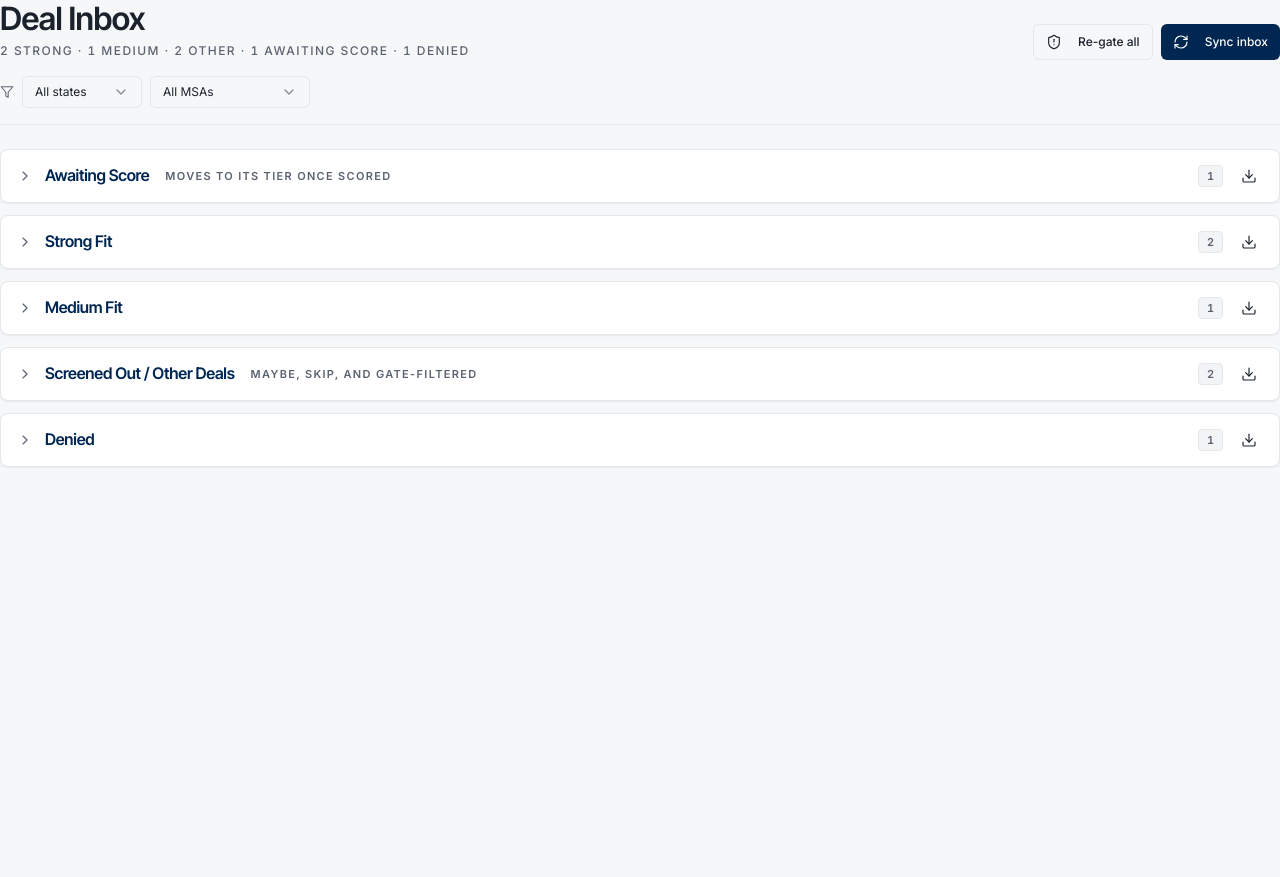
Deal Inbox › groups deals by tier, newest first, and leaves accepted deals out
Expected: the 1st text "2" is shown, [1198,230,1223,253]
Click the heading "Strong Fit": (79, 242) [45,229,112,254]
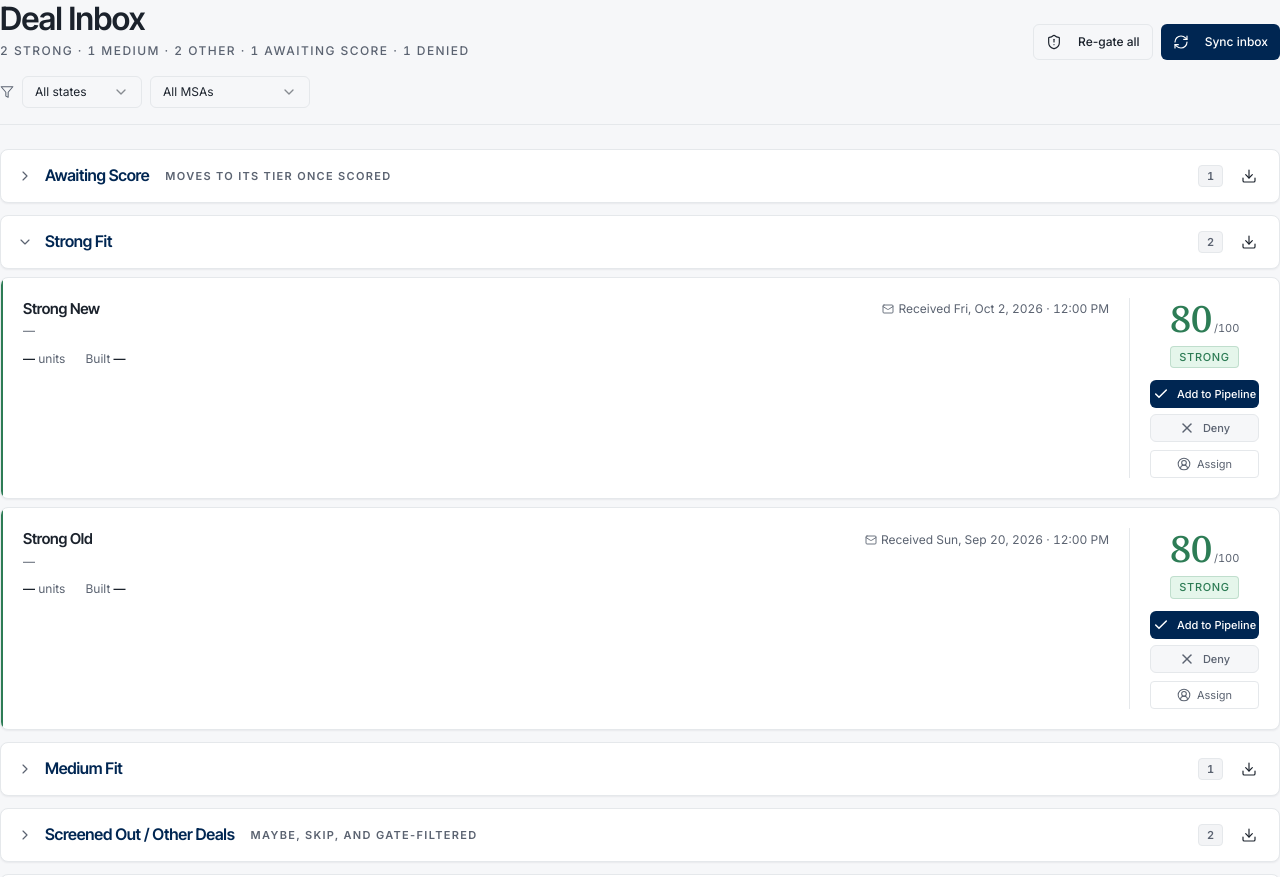
Click the heading "Medium Fit": (84, 769) [45,756,122,781]
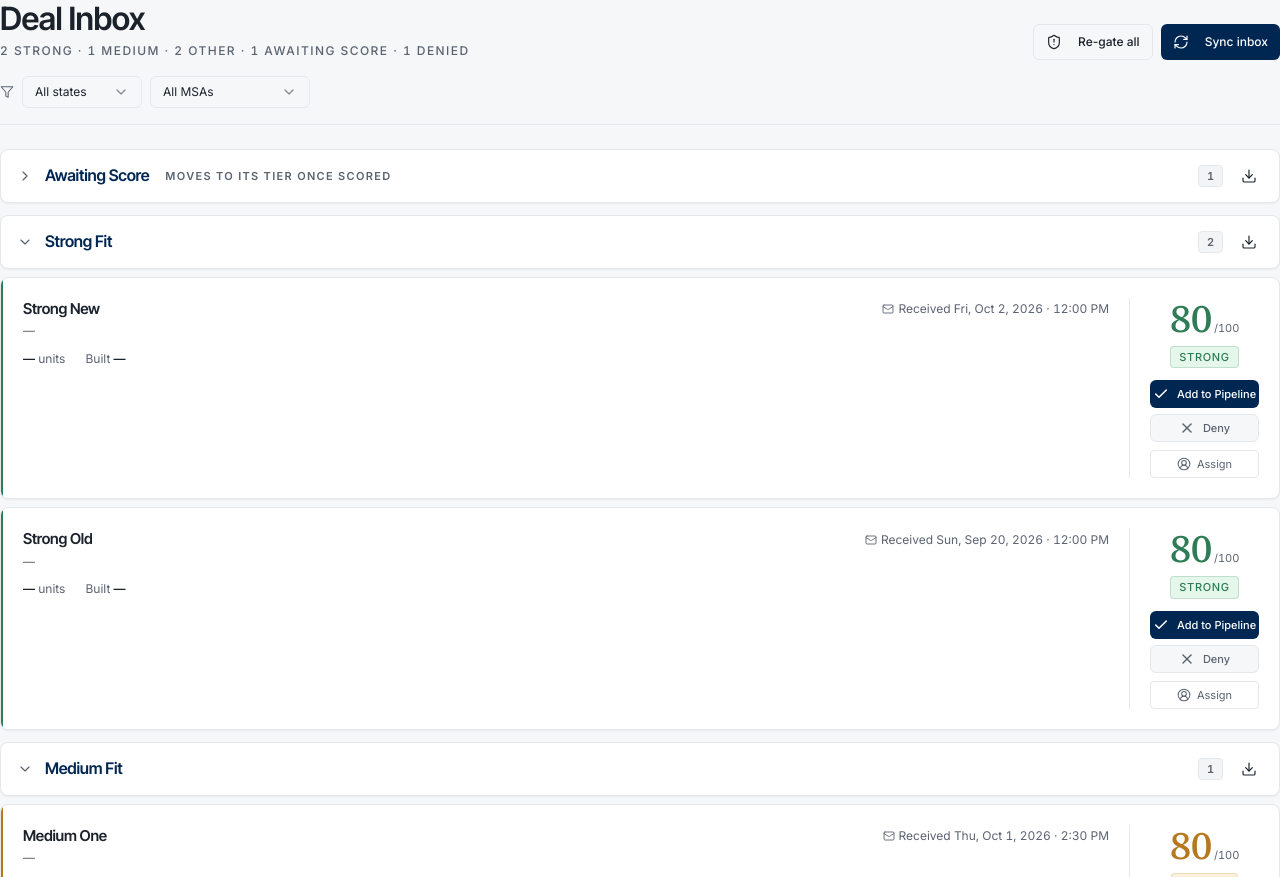
Expected: the headings read "Strong New", "Strong Old", in this order, [23,298,100,320]; [23,528,92,551]
Now the heading "Medium One" is shown, box [23,825,107,847]
